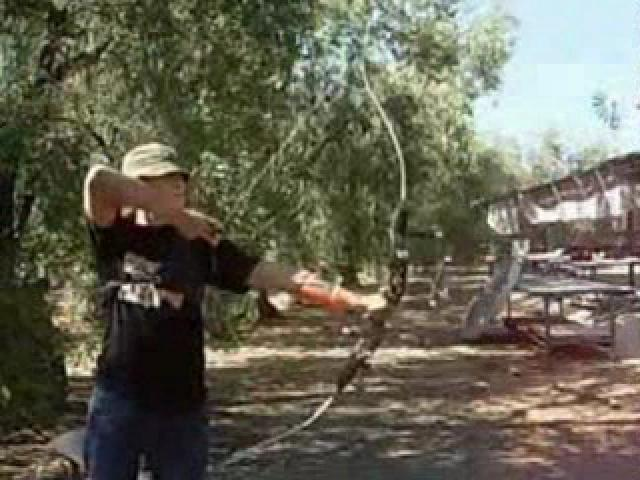I: (62, 125, 394, 480)
